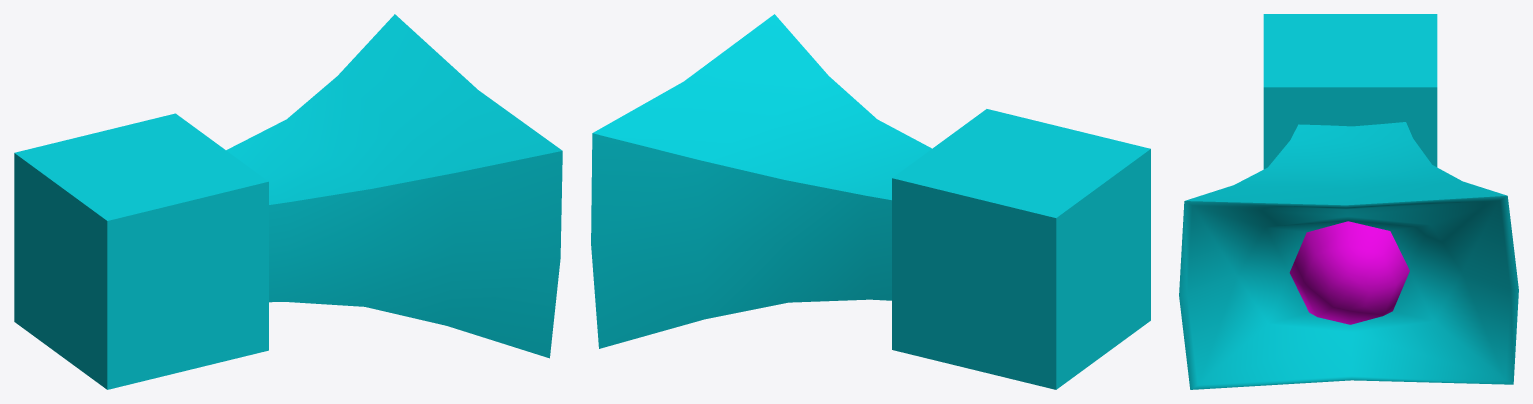
Rendered from Altoparlante.fbx.
3 renders of one model, left to right at view 1: azimuth 30°, elevation 25°; view 2: azimuth 150°, elevation 25°; view 3: azimuth 270°, elevation 25°, orthographic. The views are drawn at different scales.
Visible parts, largest first — view 1: altoparlante; view 2: altoparlante; view 3: altoparlante.
Part boxes in pixels (left/top/right/bottom): altoparlante: left=14, top=14, right=562, bottom=389; altoparlante: left=591, top=14, right=1150, bottom=389; altoparlante: left=1179, top=14, right=1518, bottom=389.
Bounding box in the file's own units: 84.48 × 41.67 × 63.79.
